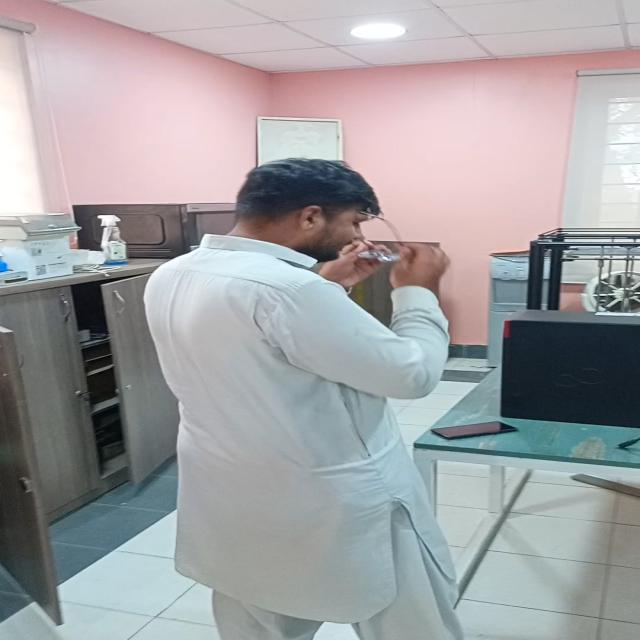dress: (140, 232, 456, 640)
